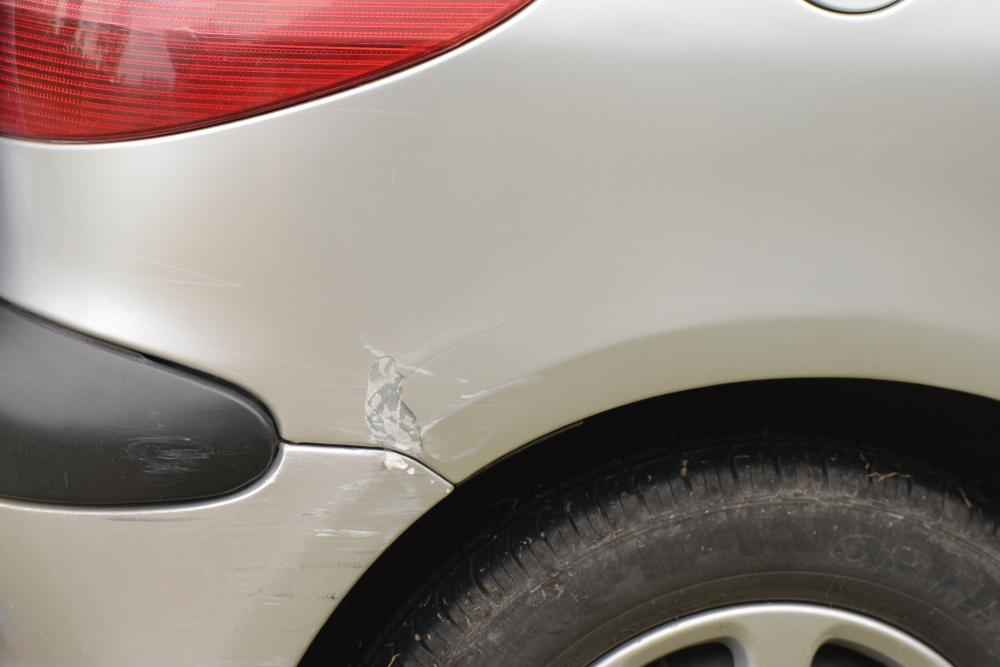scratch: (231, 460, 434, 611), (353, 342, 541, 472)
